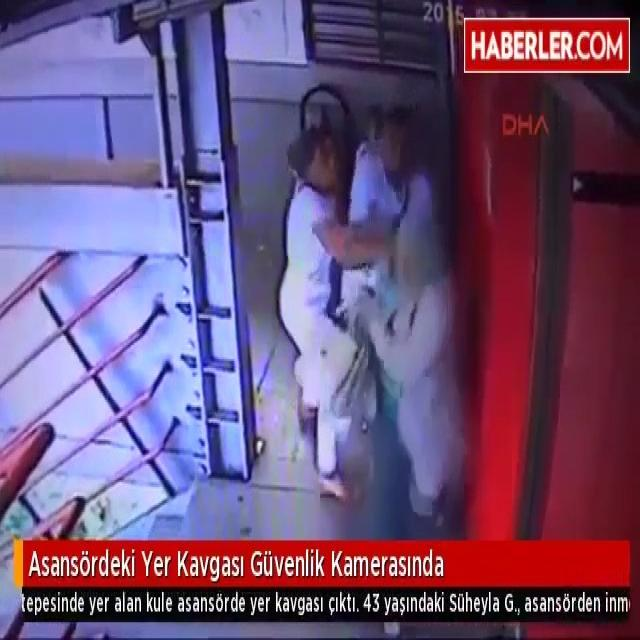fight: (253, 70, 457, 506)
